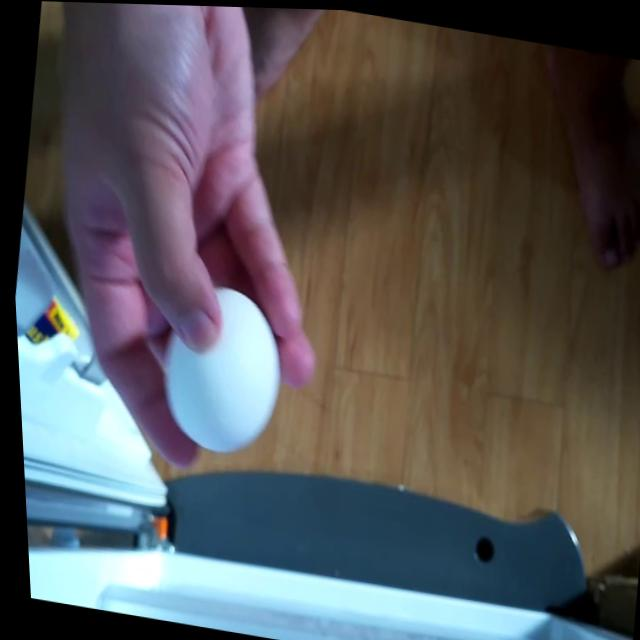egg: (143, 275, 292, 464)
